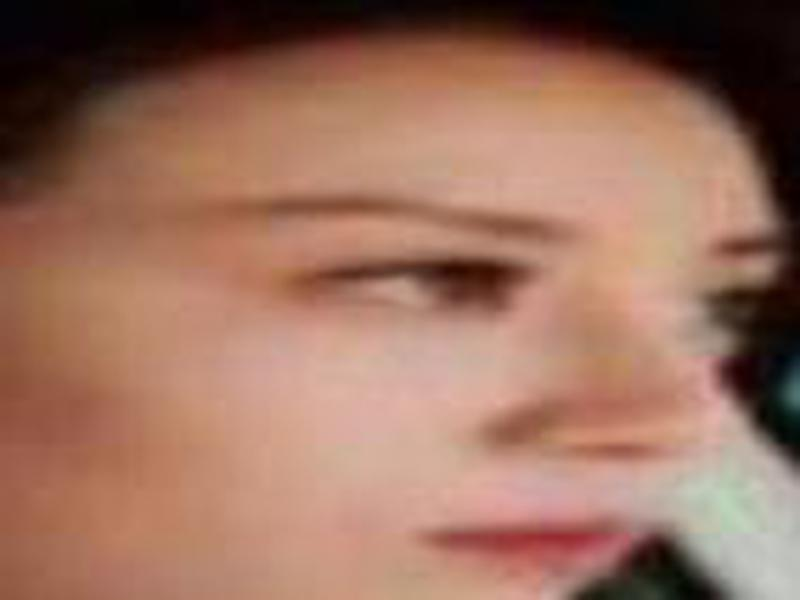without_mask: (59, 78, 785, 600)
